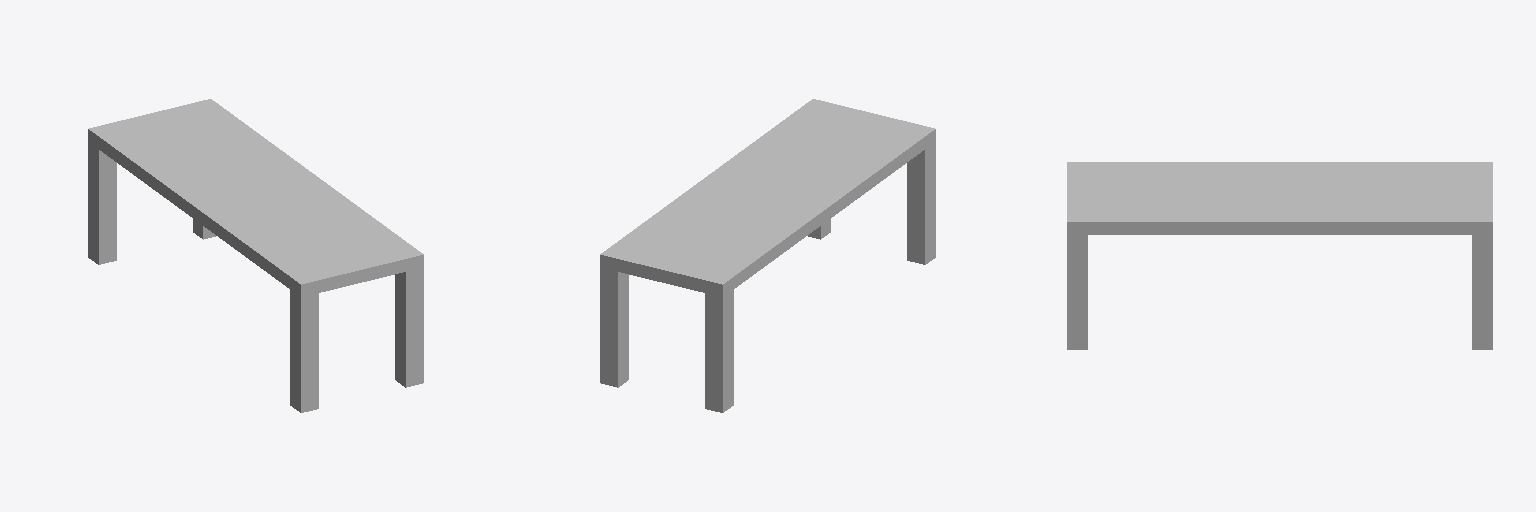
The model's file is bench_t01.obj.
3 views of the same model, side by side, from view 1: azimuth 30°, elevation 25°; view 2: azimuth 150°, elevation 25°; view 3: azimuth 270°, elevation 25° (orthographic).
Visible parts, largest first — view 1: Cube; view 2: Cube; view 3: Cube.
Boxes of the visible parts, x1=… form: Cube: x1=88, y1=99, x2=423, y2=412; Cube: x1=600, y1=99, x2=935, y2=412; Cube: x1=1067, y1=162, x2=1492, y2=349.
Bounding box in the file's own units: 2 × 2 × 6.